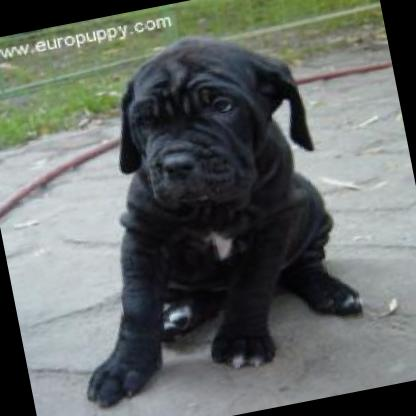bull_mastiff: (20, 15, 366, 409)
